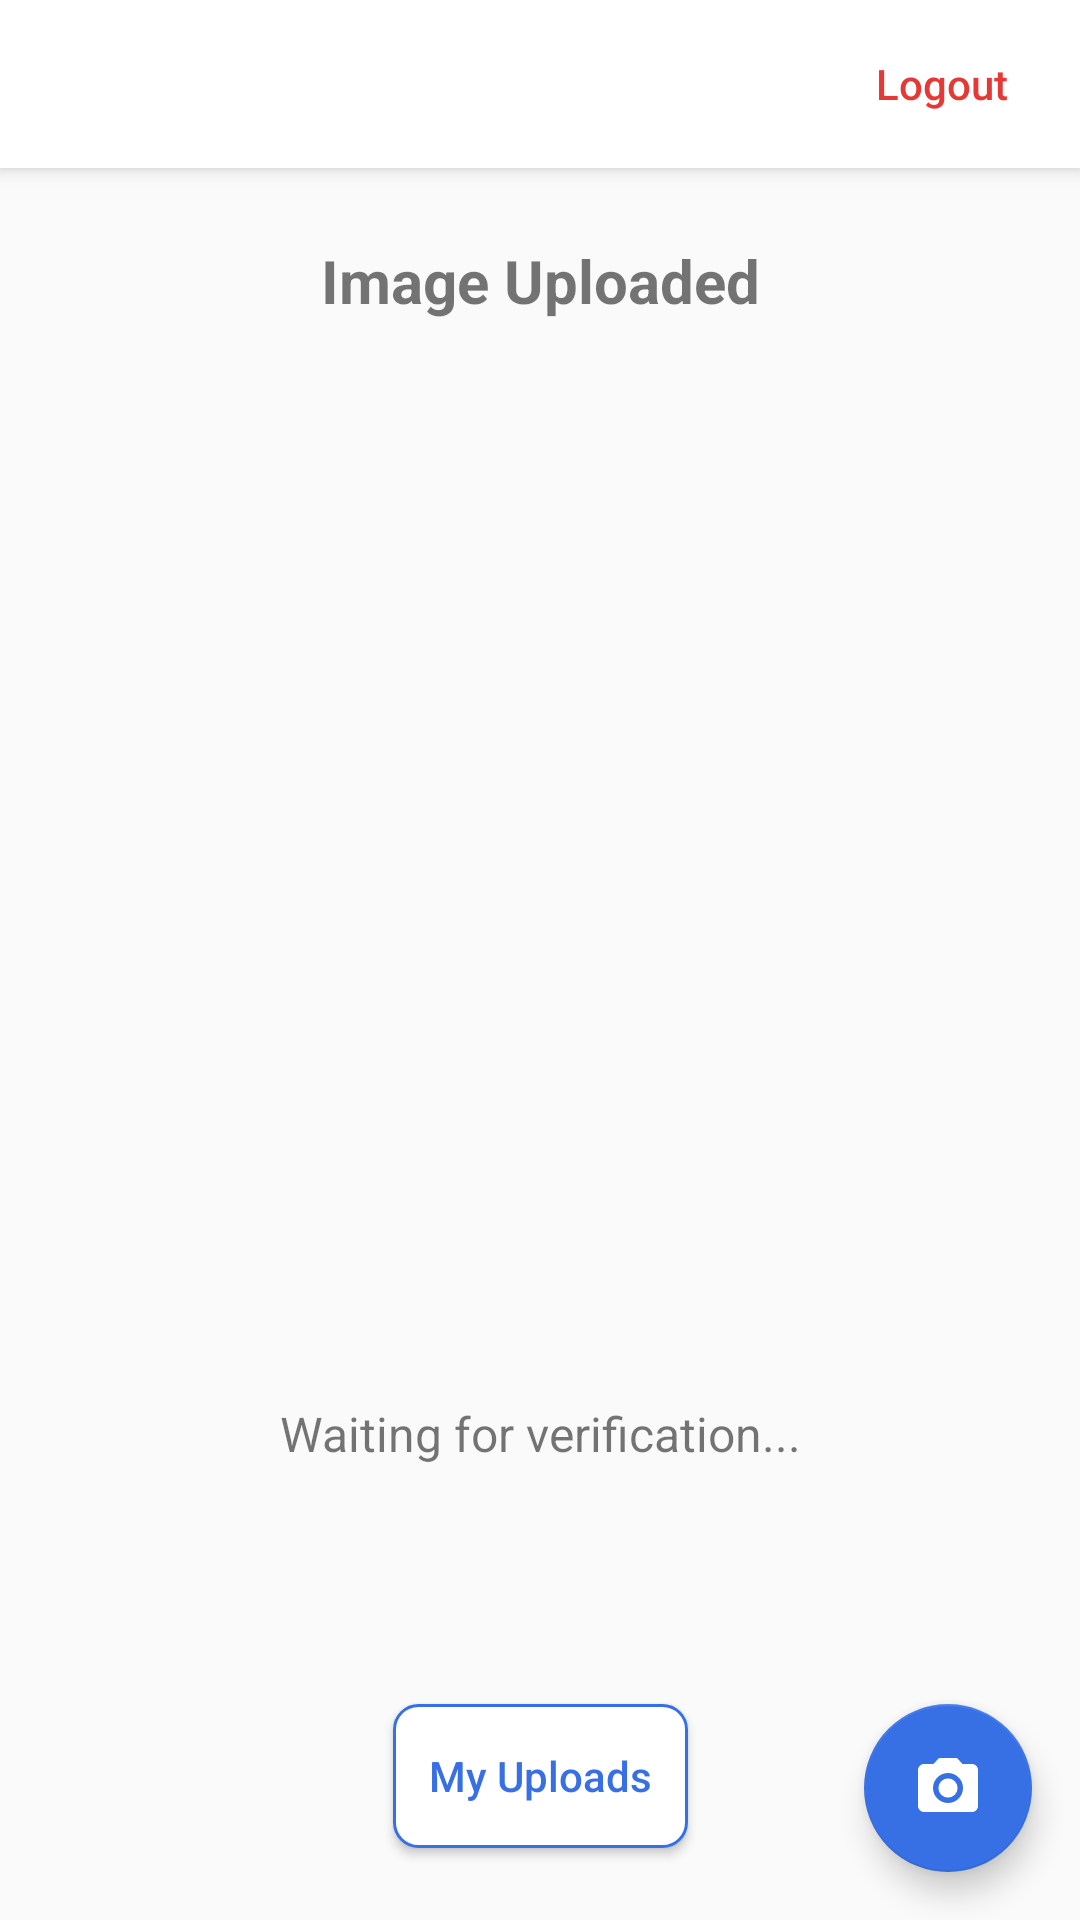

Icon bounding boxes for this 1080*1920 phone screenshot, format region(x1, y1, x2, y2):
Take another photo: region(864, 1704, 1032, 1872)
